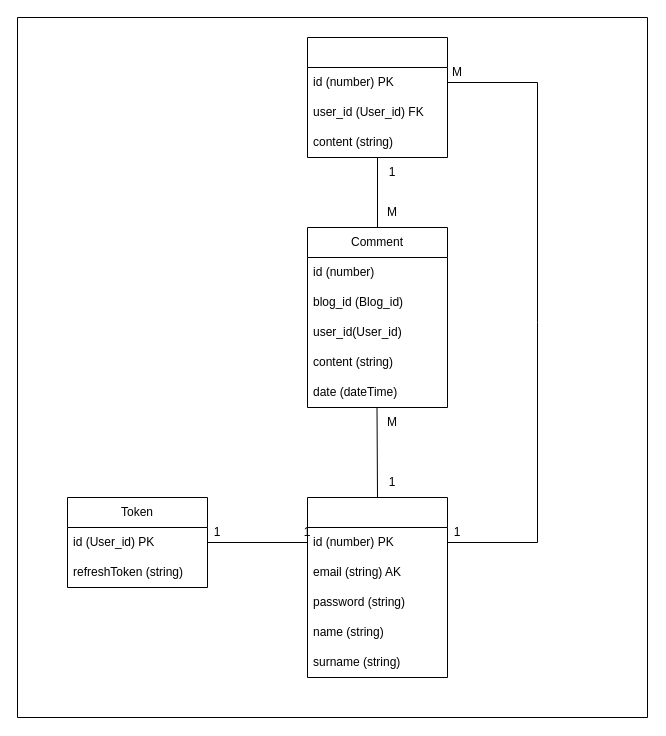
Some shapes in this 666 by 736 pixel diagram are drawn without their labels. Here are the shapes that lost their labels. From the top down, the box of each, then its label:
(306, 36, 448, 158): Blog
(306, 496, 448, 678): User
